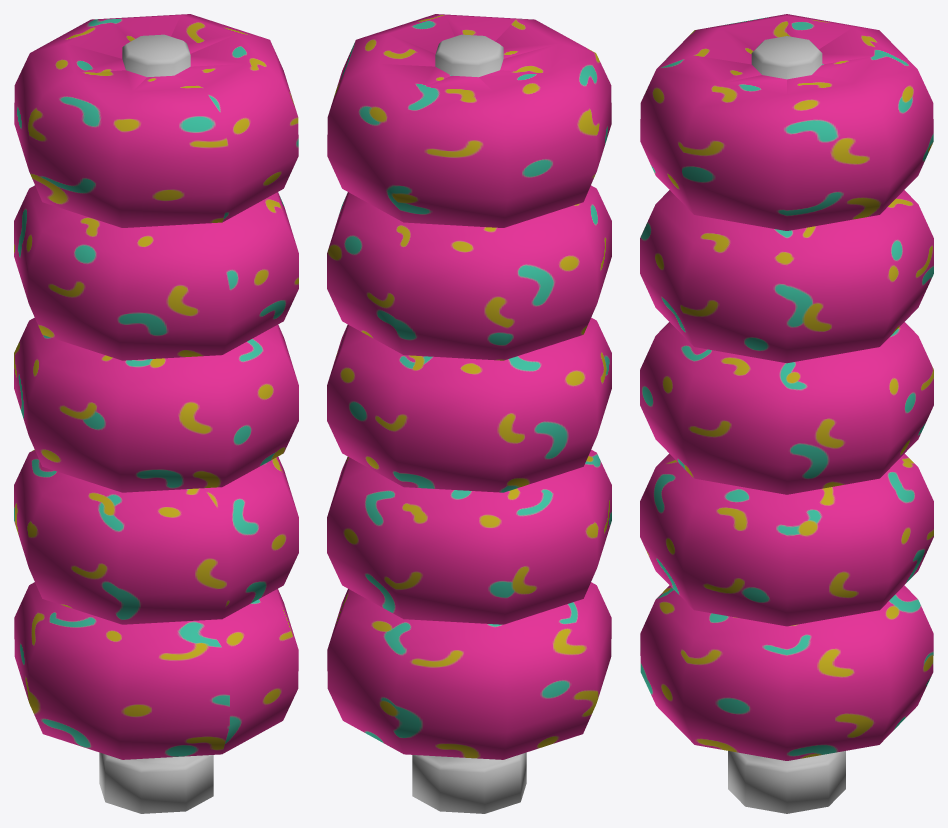
The model's file is candy_bumper.fbx.
3 views of the same model, side by side, from view 1: azimuth 30°, elevation 25°; view 2: azimuth 150°, elevation 25°; view 3: azimuth 270°, elevation 25° (orthographic).
Visible parts, largest first — view 1: CandyBumper_lp; view 2: CandyBumper_lp; view 3: CandyBumper_lp.
Part boxes in pixels (left/top/right/bottom): CandyBumper_lp: left=14, top=14, right=298, bottom=813; CandyBumper_lp: left=327, top=14, right=611, bottom=813; CandyBumper_lp: left=640, top=14, right=933, bottom=813.
Size of the model in its own units: 0.6868 by 1.91 by 0.6868.
Materials: 1 (1 with a texture image).
